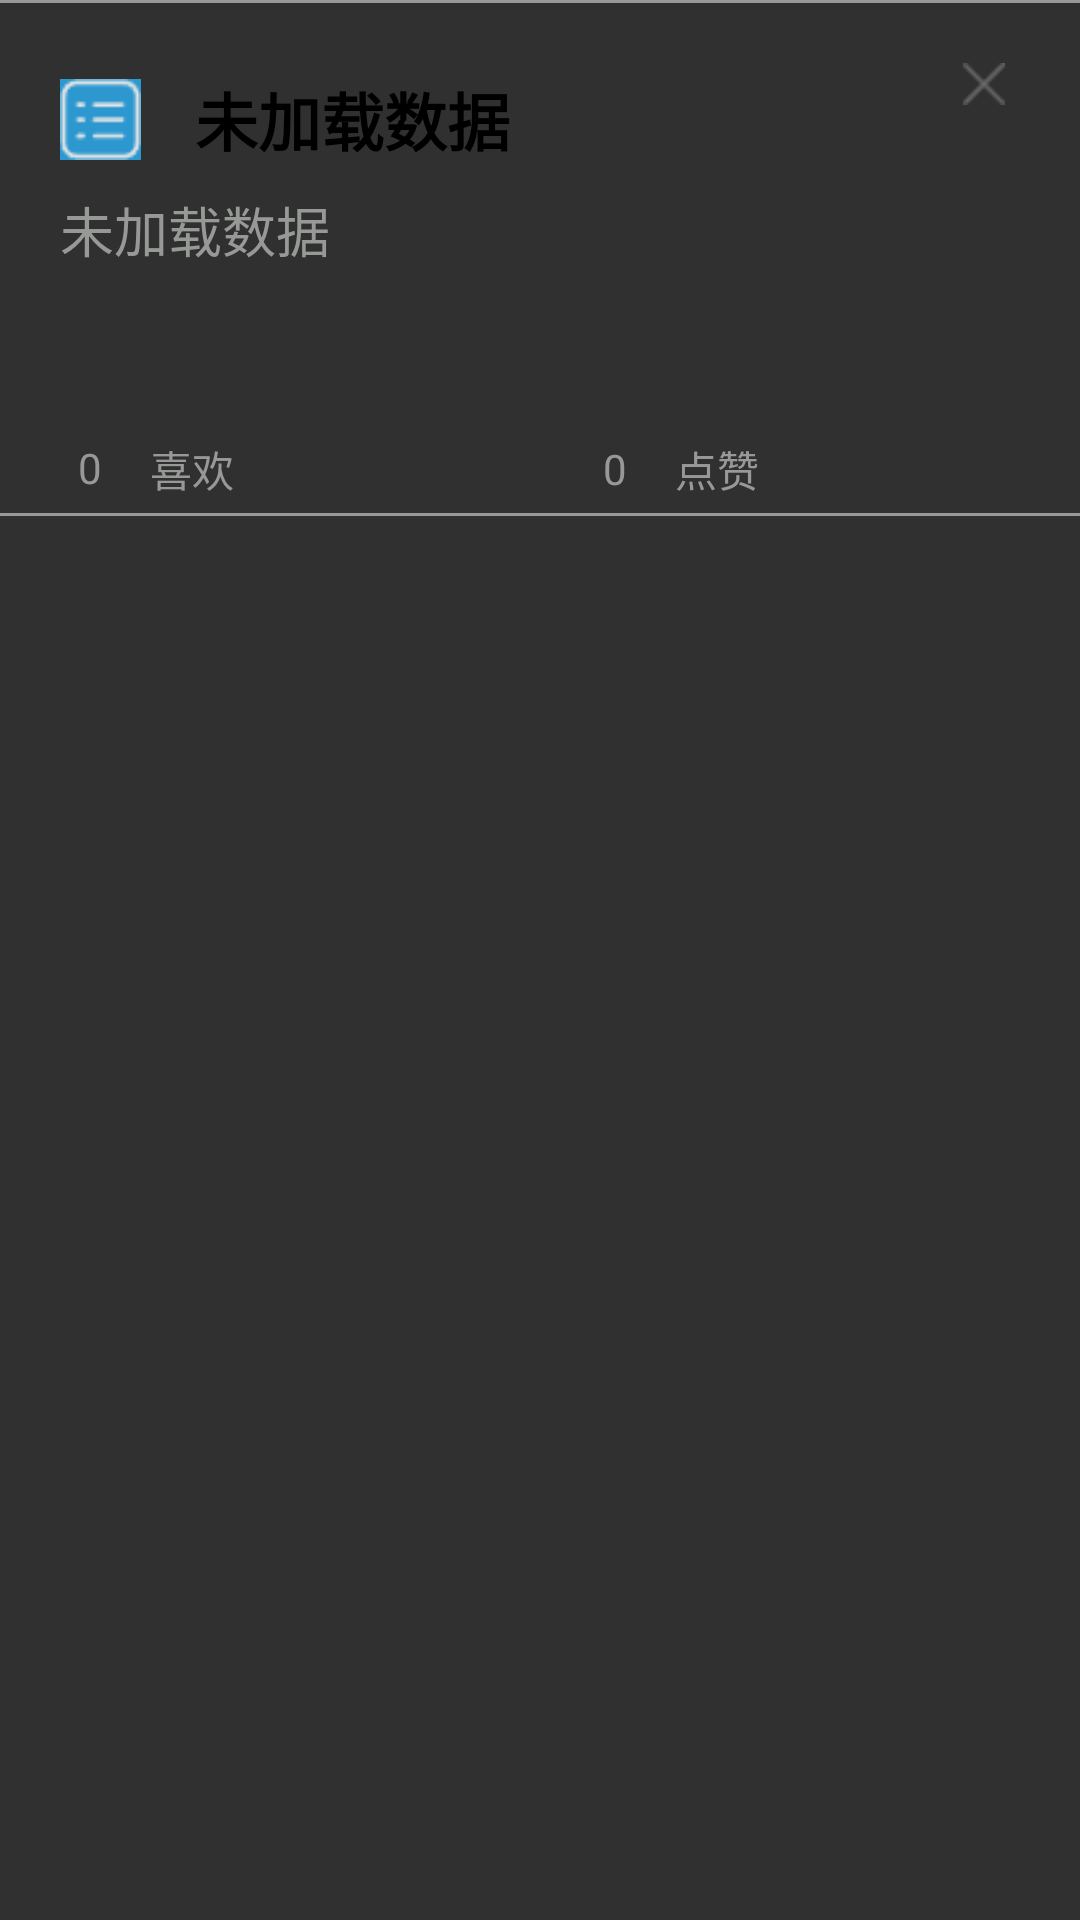

Icons on this 1080w x 1920h Android screen, each with its box as Rect(x1, y1, x2, y2):
delete: Rect(963, 63, 1005, 105)
